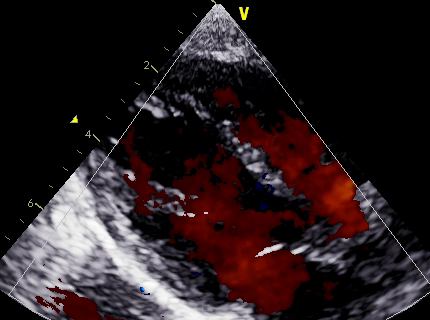AR: (230, 170, 330, 246)
